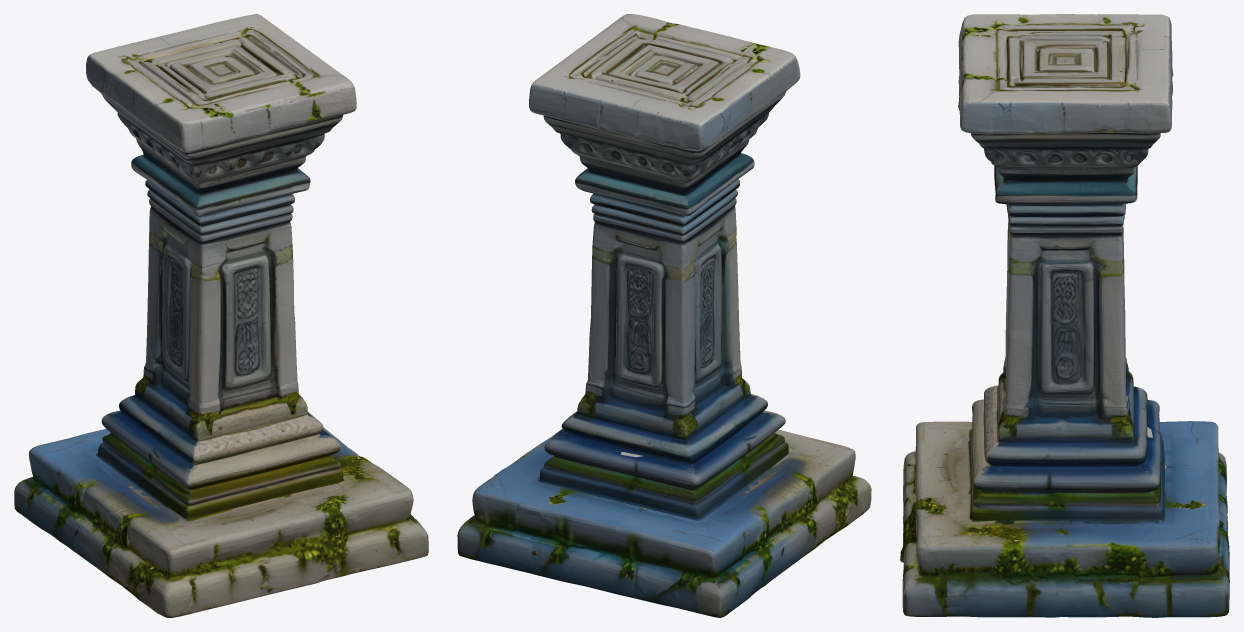
File: kadamba-granite-pillar-optimized (1).glb
3 views of the same model, side by side, from view 1: azimuth 30°, elevation 25°; view 2: azimuth 150°, elevation 25°; view 3: azimuth 270°, elevation 25° (orthographic). The views are drawn at different scales.
Parts seen in each view (by area): view 1: 95992935-ffaa-4ef9-8600-1b9acfcc05e7_texturing; view 2: 95992935-ffaa-4ef9-8600-1b9acfcc05e7_texturing; view 3: 95992935-ffaa-4ef9-8600-1b9acfcc05e7_texturing.
Boxes of the visible parts, bbox=[...] form: 95992935-ffaa-4ef9-8600-1b9acfcc05e7_texturing: bbox=[14, 14, 428, 617]; 95992935-ffaa-4ef9-8600-1b9acfcc05e7_texturing: bbox=[457, 14, 871, 617]; 95992935-ffaa-4ef9-8600-1b9acfcc05e7_texturing: bbox=[900, 14, 1229, 617].
Bounding box in the file's own units: 1.81 × 3 × 1.82.
1 material, 1 textured.
